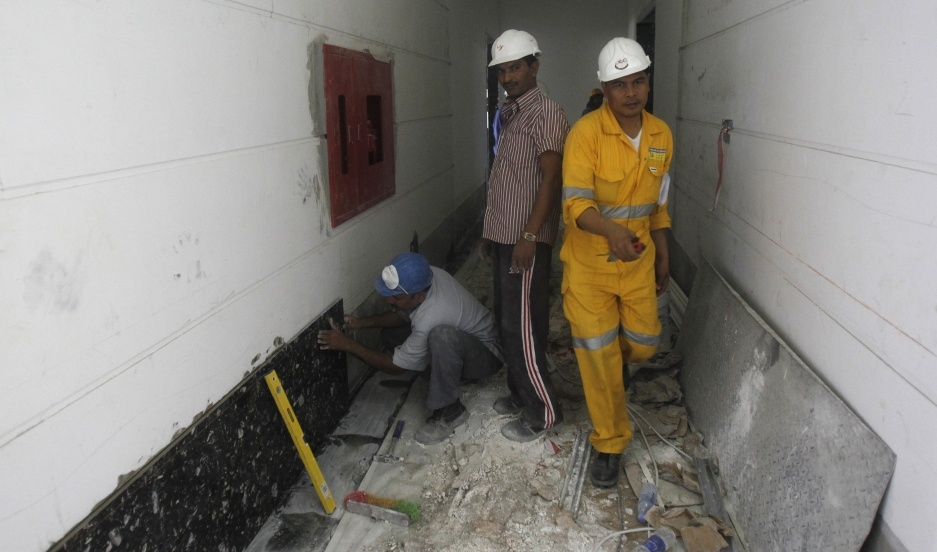blue: (378, 254, 433, 311)
white: (597, 37, 650, 117), (489, 29, 541, 98)
